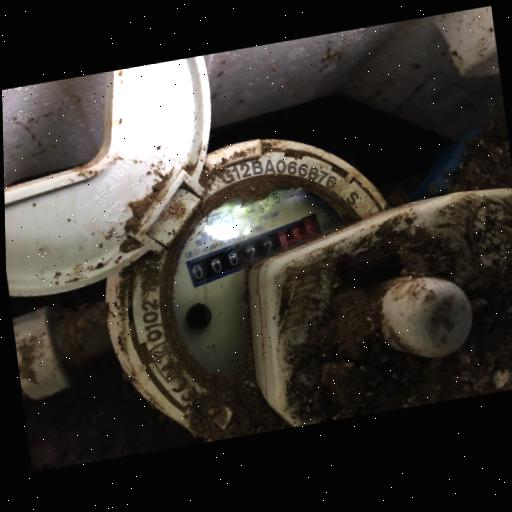0: (202, 251, 228, 279), (188, 258, 210, 286)
2: (237, 237, 265, 267), (257, 232, 281, 260)
5: (298, 212, 322, 243), (287, 221, 308, 248)
8: (221, 244, 244, 272), (273, 225, 296, 253)
border_water_meter_number: (181, 207, 331, 290)
